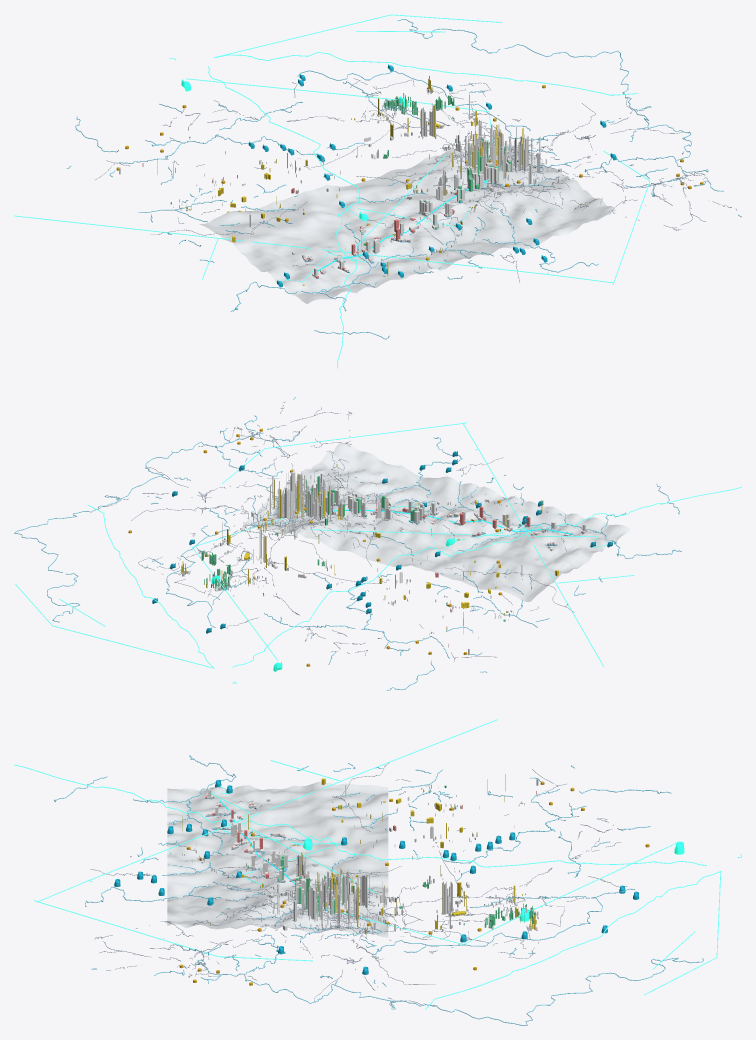
The model's file is campinas_digital_twin.glb.
3 views of the same model, one above another, from view 1: azimuth 30°, elevation 25°; view 2: azimuth 150°, elevation 25°; view 3: azimuth 270°, elevation 25° (orthographic). The views are drawn at different scales.
Visible parts, largest first — view 1: Terrain_DEM_Campinas_30m, OSM_Buildings_3D_standard, Basemap_OSM_Waterways, Basemap_OSM_Roads, Basemap_Gasodutos_CP2B_Comgas, OSM_Buildings_3D_brt_amber, OSM_Buildings_3D_cp2b_green; view 2: Terrain_DEM_Campinas_30m, OSM_Buildings_3D_standard, Basemap_OSM_Waterways, Basemap_OSM_Roads, Basemap_Gasodutos_CP2B_Comgas, OSM_Buildings_3D_brt_amber, OSM_Buildings_3D_cp2b_green; view 3: Terrain_DEM_Campinas_30m, OSM_Buildings_3D_standard, Basemap_OSM_Waterways, Basemap_OSM_Roads, Basemap_Gasodutos_CP2B_Comgas, OSM_Buildings_3D_brt_amber, OSM_Buildings_3D_cp2b_green.
Boxes of the visible parts, x1,y1,x2,y2 form: Terrain_DEM_Campinas_30m: (199,143,616,304); OSM_Buildings_3D_standard: (119,87,563,277); Basemap_OSM_Waterways: (66,19,741,339); Basemap_OSM_Roads: (94,78,736,282); Basemap_Gasodutos_CP2B_Comgas: (14,14,650,368); OSM_Buildings_3D_brt_amber: (157,76,581,275); OSM_Buildings_3D_cp2b_green: (170,95,515,252); Terrain_DEM_Campinas_30m: (242,443,630,601); OSM_Buildings_3D_standard: (179,469,586,654); Basemap_OSM_Waterways: (14,397,681,690); Basemap_OSM_Roads: (92,401,575,661); Basemap_Gasodutos_CP2B_Comgas: (15,422,741,683); OSM_Buildings_3D_brt_amber: (181,464,558,633); OSM_Buildings_3D_cp2b_green: (201,476,506,621); Terrain_DEM_Campinas_30m: (167,781,388,937); OSM_Buildings_3D_standard: (179,779,542,933); Basemap_OSM_Waterways: (54,755,703,1025); Basemap_OSM_Roads: (90,762,626,1008); Basemap_Gasodutos_CP2B_Comgas: (14,719,741,1009); OSM_Buildings_3D_brt_amber: (182,774,536,934); OSM_Buildings_3D_cp2b_green: (199,785,537,929).
Bounding box in the file's own units: 61.2 × 4.74 × 60.9.
